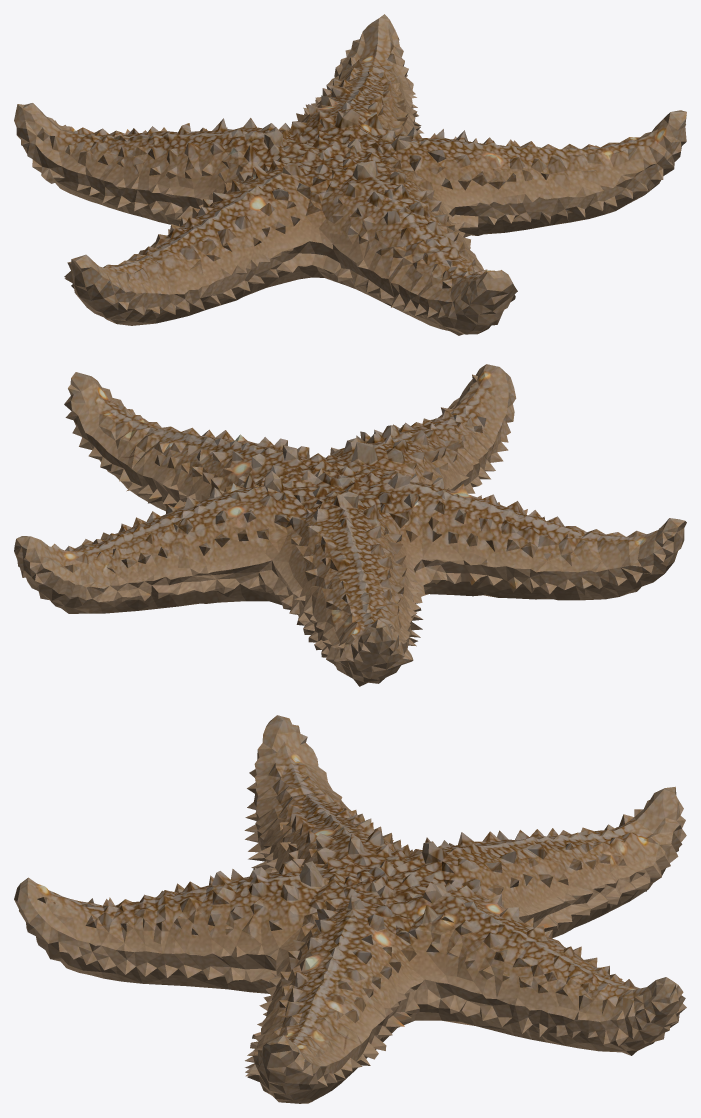
File: starfish_texture.obj
3 views of the same model, one above another, from view 1: azimuth 30°, elevation 25°; view 2: azimuth 150°, elevation 25°; view 3: azimuth 270°, elevation 25° (orthographic). The views are drawn at different scales.
Visible parts, largest first — view 1: starfish_texture; view 2: starfish_texture; view 3: starfish_texture.
Boxes of the visible parts, x1=… form: starfish_texture: x1=14, y1=14, x2=686, y2=335; starfish_texture: x1=14, y1=364, x2=686, y2=686; starfish_texture: x1=14, y1=715, x2=686, y2=1103.
Bounding box in the file's own units: 0.9475 × 0.1469 × 0.8195.
1 material, 1 textured.
